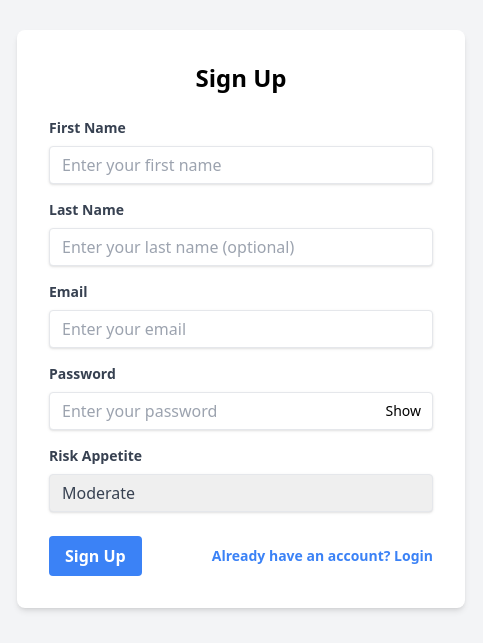
SignupPage › displays password strength feedback
The image size is (483, 643).
Type "MyStrongP@ssw0rd" into the password field labelled "Password" at coordinates (241, 411), box 49,392 -> 433,430
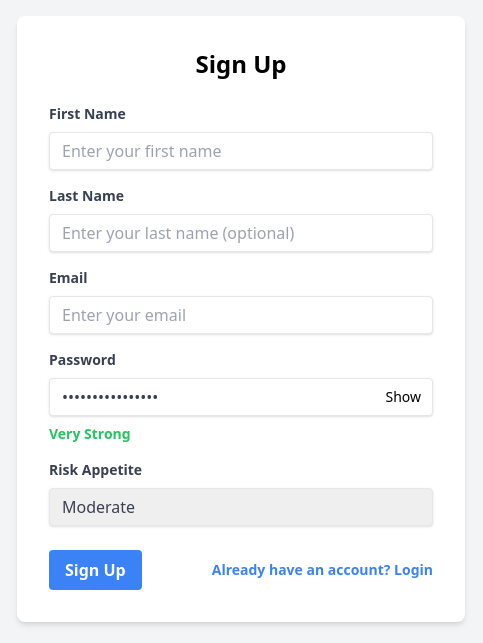
expect the text "Very Strong" is shown: met, box 49,424 -> 131,443
